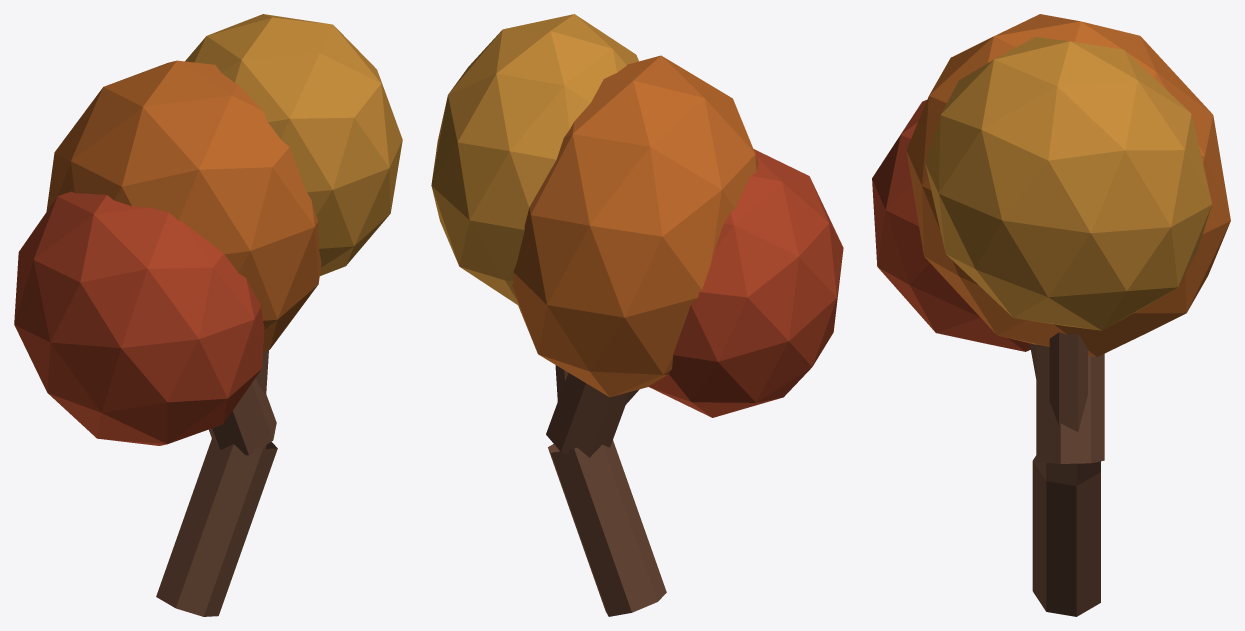
The picture shows the model from 3 angles, left to right: view 1: azimuth 30°, elevation 25°; view 2: azimuth 150°, elevation 25°; view 3: azimuth 270°, elevation 25°; orthographic projection. The views are drawn at different scales.
Parts seen in each view (by area): view 1: T12_矮丛秋树; view 2: T12_矮丛秋树; view 3: T12_矮丛秋树.
Boxes of the visible parts, x1=… form: T12_矮丛秋树: x1=14, y1=14, x2=402, y2=616; T12_矮丛秋树: x1=431, y1=14, x2=843, y2=616; T12_矮丛秋树: x1=872, y1=14, x2=1230, y2=616.
Bounding box in the file's own units: 1.1 × 1.68 × 0.8995.
